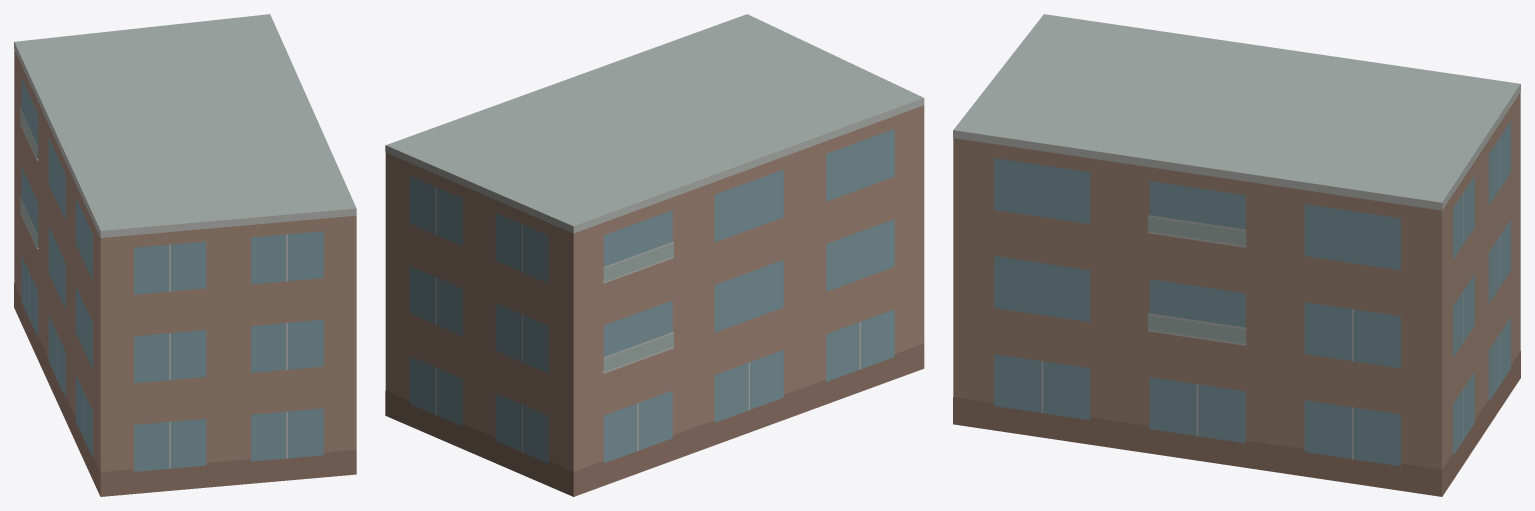
File: survey-upis-32893898.glb
3 views of the same model, side by side, from view 1: azimuth 30°, elevation 25°; view 2: azimuth 150°, elevation 25°; view 3: azimuth 270°, elevation 25° (orthographic). The views are drawn at different scales.
Parts seen in each view (by area): view 1: survey-upis-32893898.tmp; view 2: survey-upis-32893898.tmp; view 3: survey-upis-32893898.tmp.
Boxes of the visible parts, x1,y1,x2,y2 form: survey-upis-32893898.tmp: (14, 14, 356, 496); survey-upis-32893898.tmp: (385, 14, 924, 496); survey-upis-32893898.tmp: (953, 14, 1520, 496).
Size of the model in its own units: 12.6 by 9.15 by 16.01.
